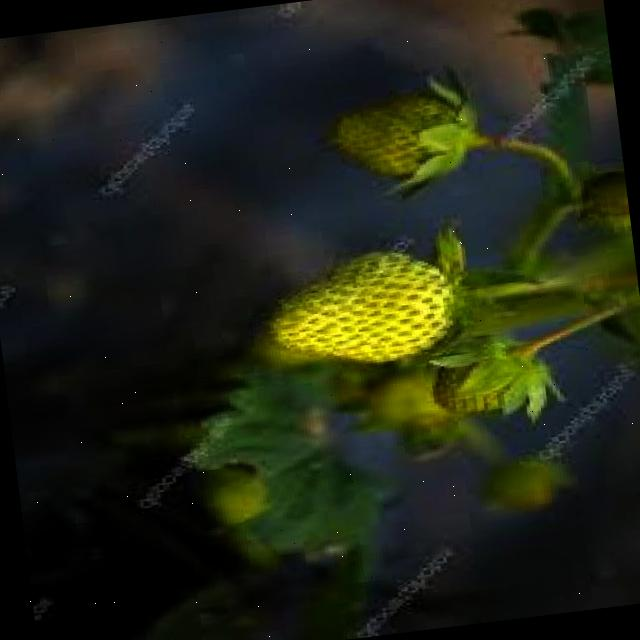strawberry: (255, 240, 460, 374), (323, 91, 470, 180), (428, 338, 538, 415)
